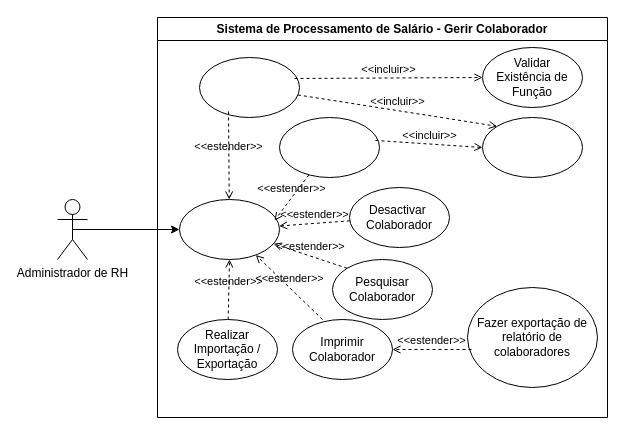
This 625x435 diagram has some shape labels left out. Each missing label, with the box of its shape:
Actualizar Colaborador: (278, 116, 380, 178)
Cadastrar Colaborador: (198, 56, 300, 118)
Gerir Colaborador: (178, 198, 280, 260)
Validar Email: (482, 116, 582, 178)
